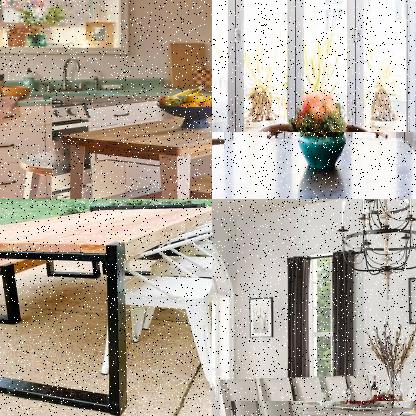table: (0, 201, 211, 415), (52, 96, 211, 198), (212, 132, 415, 198)
